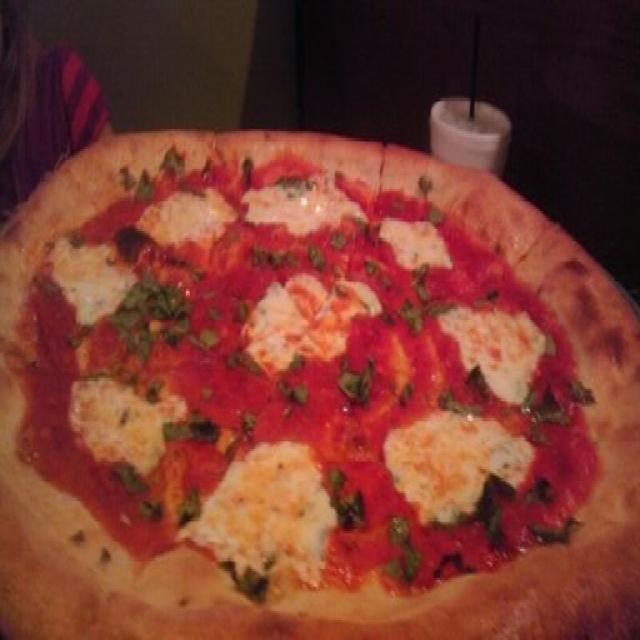Basil: (116, 280, 180, 334), (378, 513, 420, 582), (478, 472, 516, 547), (331, 353, 379, 404), (326, 466, 361, 526), (166, 410, 214, 444), (530, 511, 574, 548), (112, 454, 147, 496), (408, 255, 436, 303), (519, 472, 553, 504), (441, 388, 474, 420), (396, 297, 423, 333), (533, 388, 560, 423), (276, 375, 309, 402), (178, 485, 198, 527), (127, 323, 149, 361), (226, 347, 258, 372), (64, 324, 86, 354), (571, 375, 592, 406), (188, 326, 214, 349), (163, 144, 182, 172), (395, 378, 414, 405), (198, 382, 221, 404), (262, 249, 286, 268), (138, 496, 158, 518), (132, 176, 151, 198), (425, 204, 446, 223), (377, 268, 394, 290), (417, 171, 432, 195), (364, 252, 379, 276), (236, 304, 250, 328), (307, 245, 323, 264), (330, 233, 347, 249), (250, 242, 260, 264), (286, 253, 298, 265), (242, 418, 252, 430)
Cheese: (206, 432, 332, 575), (388, 410, 530, 514), (244, 271, 379, 378), (68, 375, 182, 482), (439, 296, 546, 406), (56, 230, 133, 325), (144, 185, 232, 251), (242, 183, 363, 227), (381, 212, 451, 274)
Pizza: (1, 133, 640, 634)
